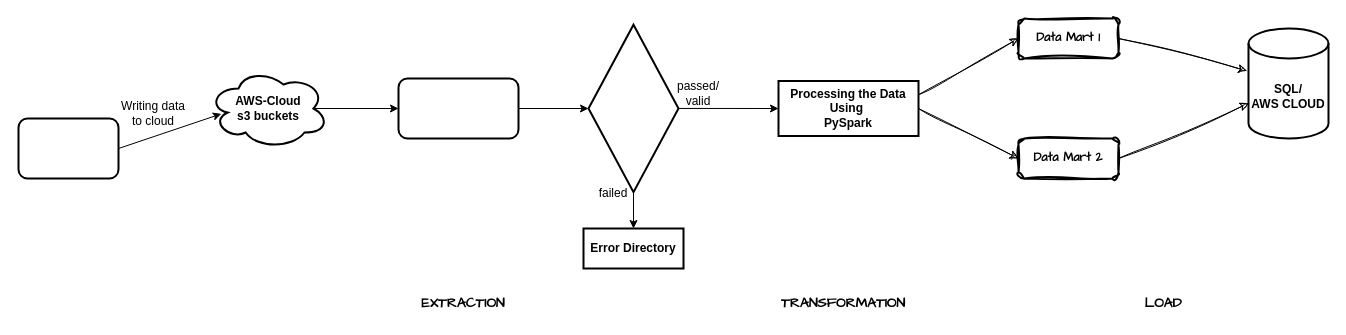
The diagram is 1346 pixels wide and 335 high, and some of its shapes have lost their labels. Each missing label, with the box of its shape:
Data Generation using python: (17, 117, 119, 179)
Downloading Data to Local system: (397, 77, 519, 139)
Validating Data for required schema: (587, 23, 679, 193)
